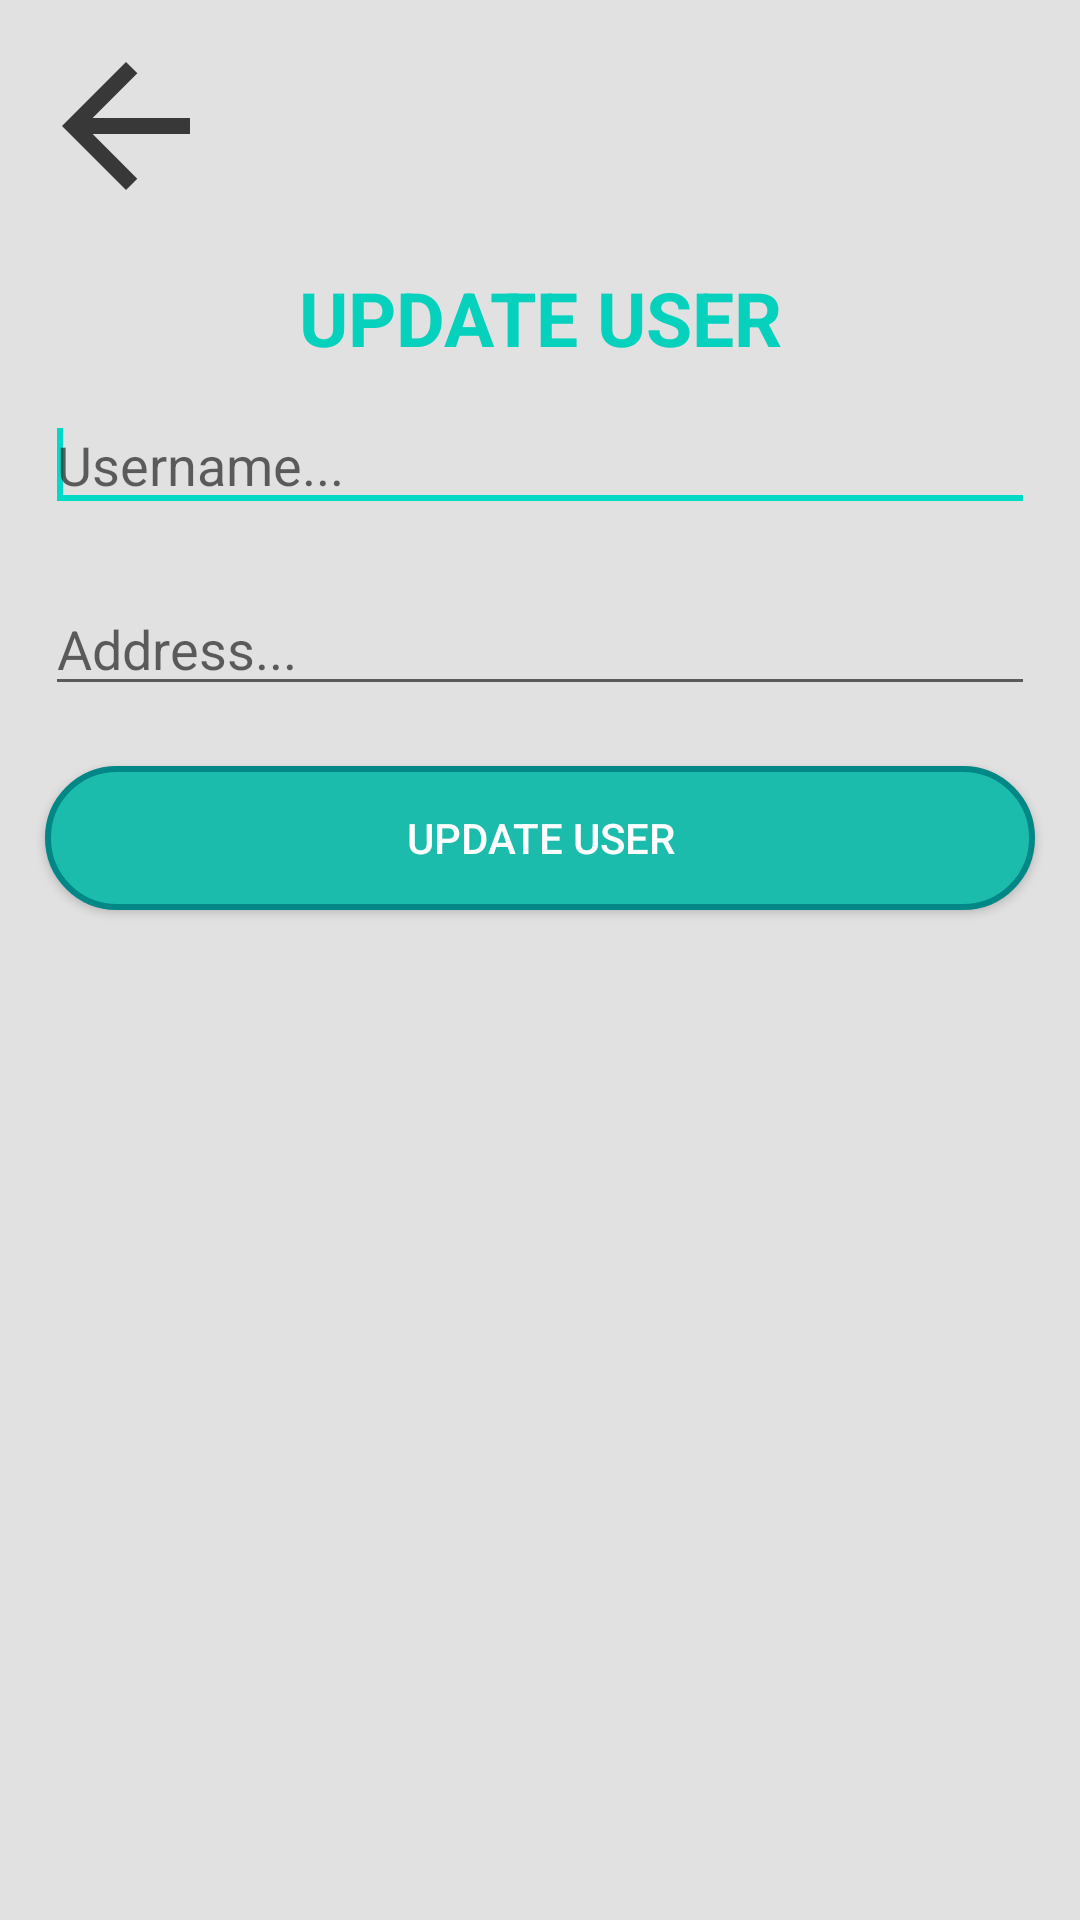

Named icons in this screenshot (1080×1920) and their bounding boxes, [x1, y1, x2, y2]:
arrow back: [62, 62, 190, 190]
